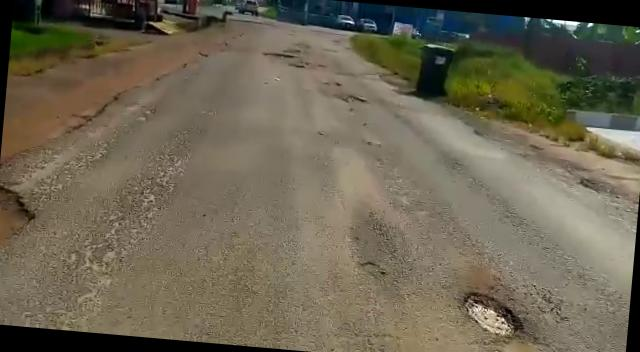pothole: (453, 290, 535, 342), (329, 92, 372, 106)
